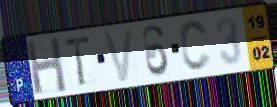3: (215, 15, 243, 68)
6: (141, 23, 170, 79)
C: (178, 19, 214, 74)
H: (25, 34, 69, 97)
T: (63, 33, 93, 89)
V: (100, 26, 135, 85)
